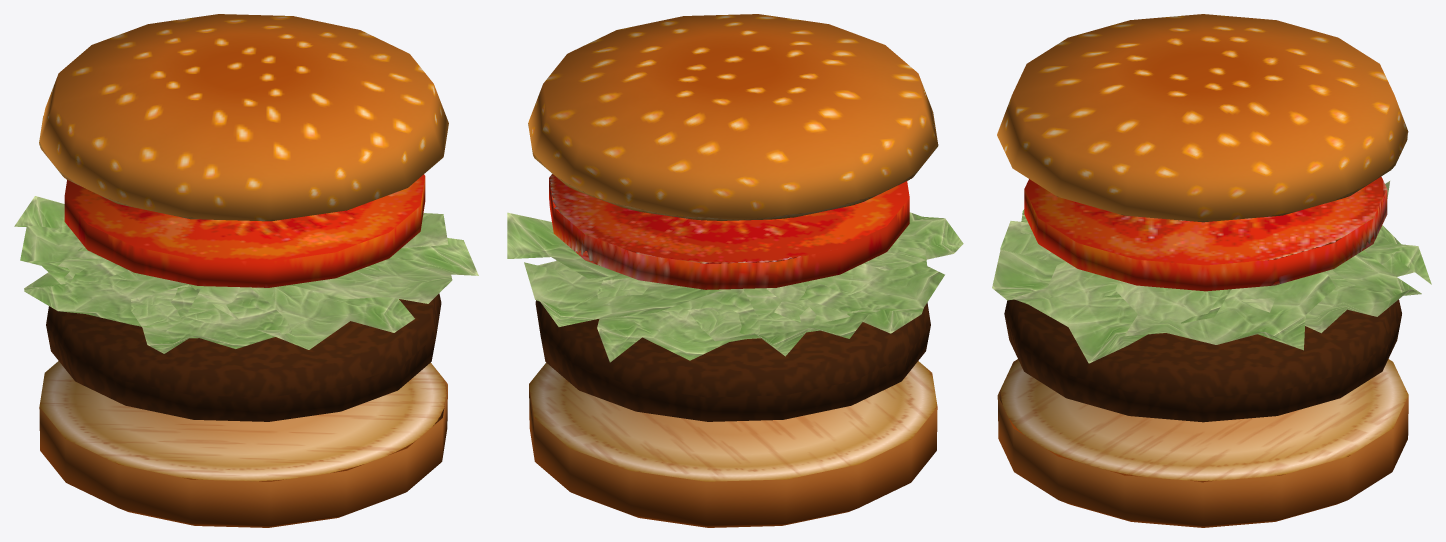
Rendered from hamburgeres.fbx.
The picture shows the model from 3 angles, left to right: view 1: azimuth 30°, elevation 25°; view 2: azimuth 150°, elevation 25°; view 3: azimuth 270°, elevation 25°; orthographic projection.
Parts seen in each view (by area): view 1: X-Salada.001, X-Salada.005, X-Salada.003, X-Salada.004, X-Salada.002; view 2: X-Salada.001, X-Salada.005, X-Salada.003, X-Salada.004, X-Salada.002; view 3: X-Salada.001, X-Salada.005, X-Salada.004, X-Salada.003, X-Salada.002.
Boxes of the visible parts, bbox=[...] form: X-Salada.001: bbox=[39, 14, 448, 221]; X-Salada.005: bbox=[39, 361, 447, 527]; X-Salada.003: bbox=[14, 196, 478, 353]; X-Salada.004: bbox=[46, 293, 441, 421]; X-Salada.002: bbox=[64, 174, 425, 287]; X-Salada.001: bbox=[528, 14, 938, 220]; X-Salada.005: bbox=[529, 361, 937, 527]; X-Salada.003: bbox=[507, 212, 963, 362]; X-Salada.004: bbox=[535, 260, 930, 421]; X-Salada.002: bbox=[549, 174, 909, 289]; X-Salada.001: bbox=[997, 14, 1408, 222]; X-Salada.005: bbox=[997, 359, 1408, 527]; X-Salada.004: bbox=[1004, 299, 1401, 422]; X-Salada.003: bbox=[992, 181, 1431, 363]; X-Salada.002: bbox=[1024, 176, 1387, 291].
Bounding box in the file's own units: 288 × 263 × 276.
5 materials, 5 textured.
